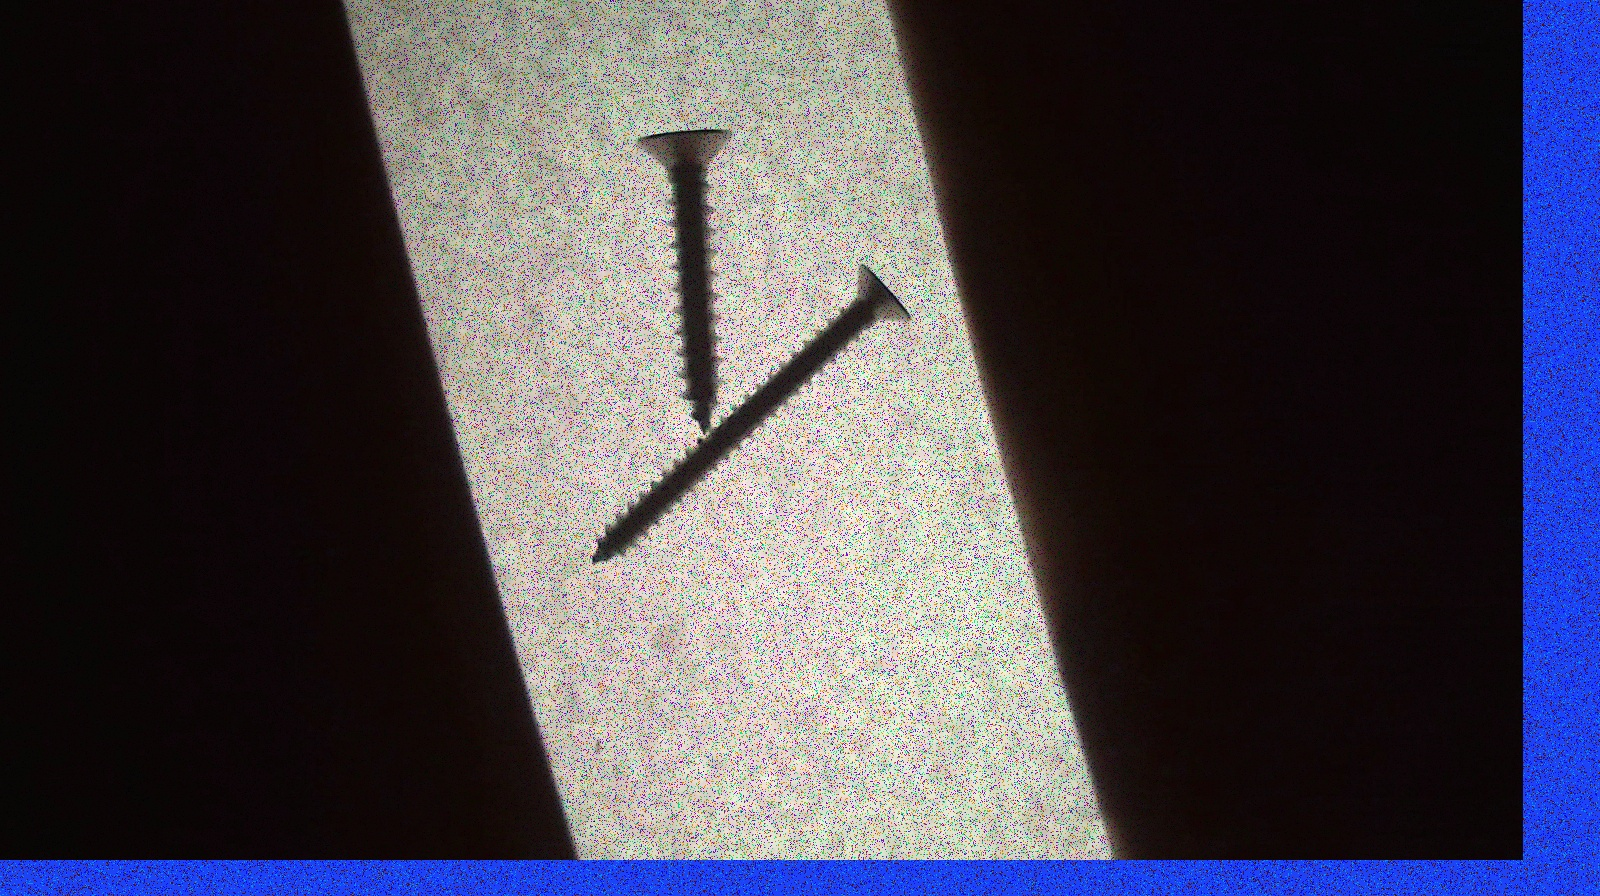S001: (641, 118, 744, 435)
S002: (592, 259, 913, 567)
